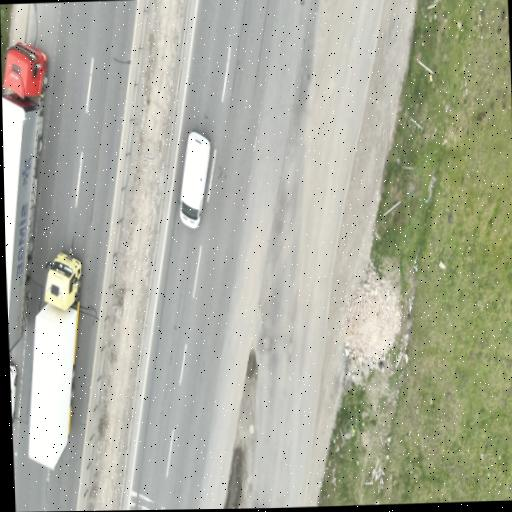car: (180, 131, 210, 227), (10, 362, 17, 423)
truck: (2, 43, 48, 349), (29, 252, 81, 468)
